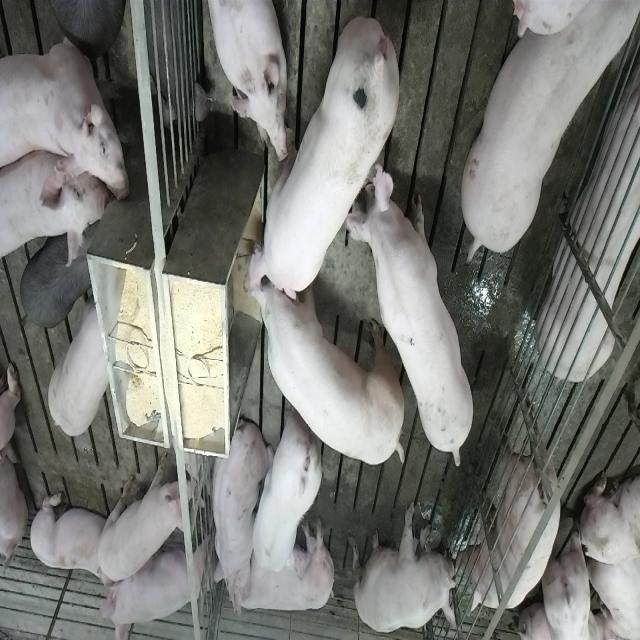Feeding: (244, 16, 402, 300), (240, 256, 398, 470)
Lateral_lying: (224, 518, 336, 624), (505, 0, 640, 40)
Sitting: (352, 499, 460, 634), (99, 543, 205, 640)
Standing: (456, 6, 634, 266), (351, 156, 479, 466), (2, 29, 132, 206), (459, 406, 558, 614), (96, 449, 196, 581), (0, 147, 104, 270), (252, 404, 324, 578), (44, 298, 109, 440), (20, 232, 94, 330), (38, 0, 125, 52)
Sternal_lying: (540, 51, 640, 380), (205, 0, 288, 158), (28, 486, 117, 588)
